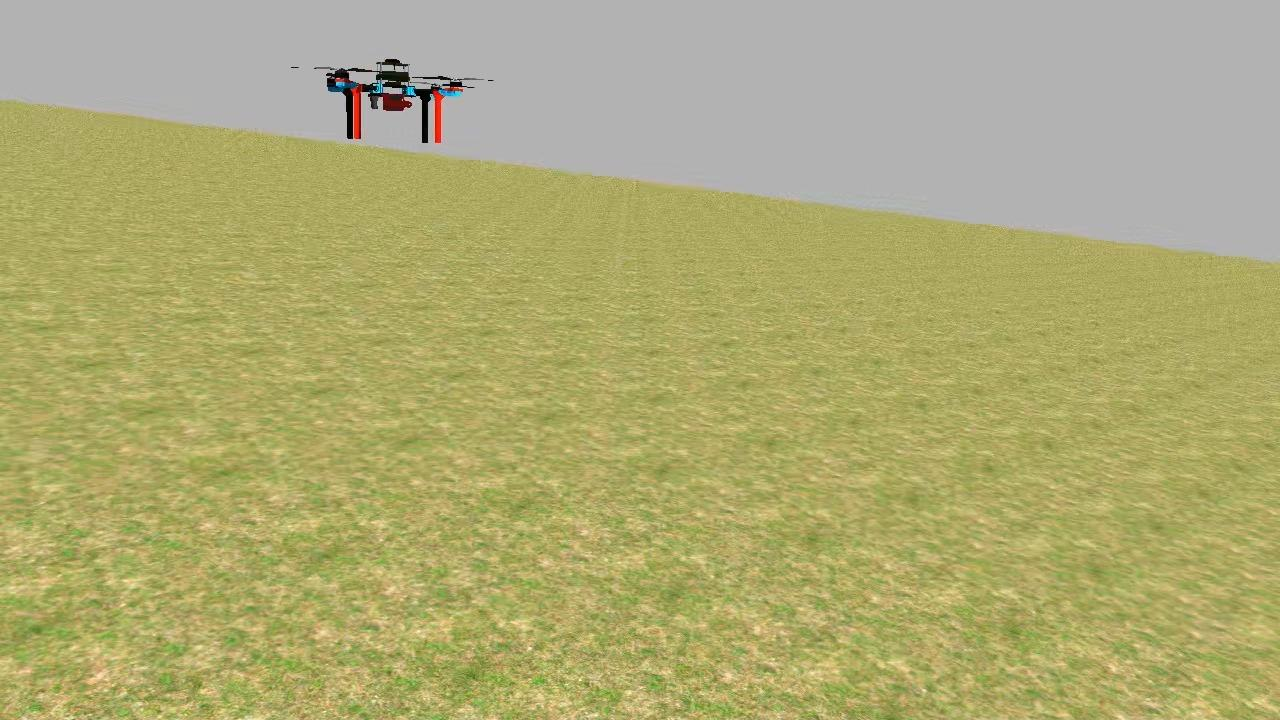UAV: (320, 50, 474, 146)
